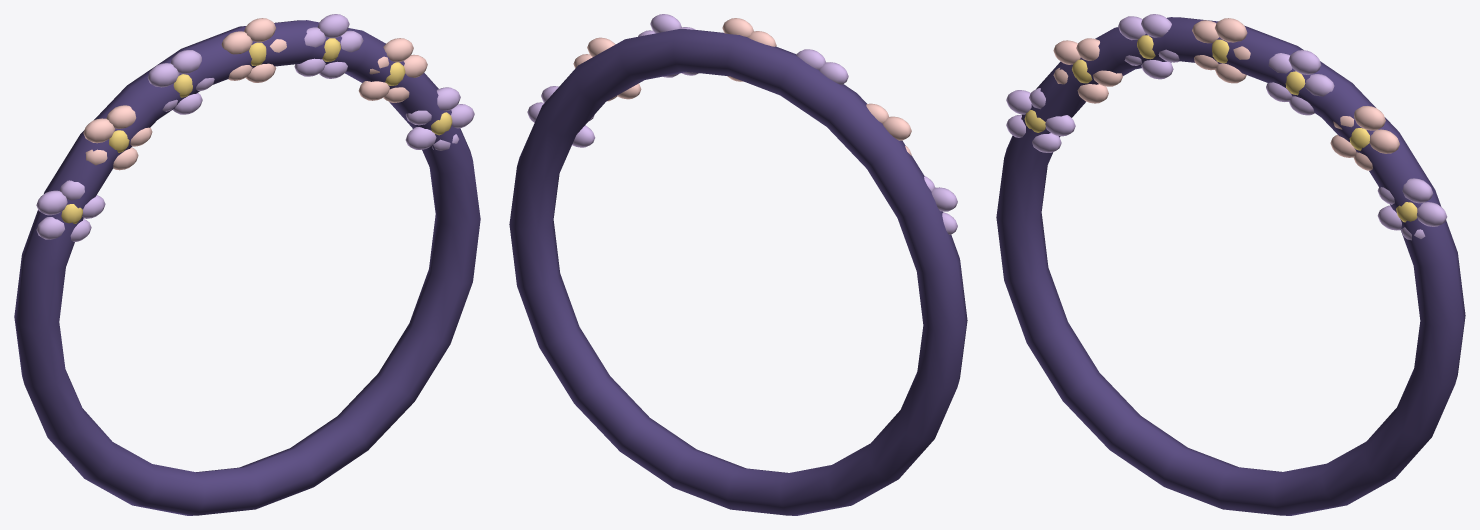
File: fairy_flower_gate.glb
3 renders of one model, left to right at view 1: azimuth 30°, elevation 25°; view 2: azimuth 150°, elevation 25°; view 3: azimuth 330°, elevation 25°, orthographic. The views are drawn at different scales.
Visible parts, largest first — view 1: InkArch, Flower_6_2, Flower_5_2, Flower_4_2, Flower_2_1, Flower_3_1, Flower_4_1, Flower_1_1, Flower_3_2, Flower_0_3, Flower_5_1; view 2: InkArch; view 3: InkArch, Flower_2_1, Flower_3_1, Flower_1_1, Flower_0_1, Flower_0_0, Flower_1_0, Flower_4_1.
Boxes of the visible parts, x1,y1,x2,y2 form: InkArch: (14, 20, 480, 515); Flower_6_2: (36, 190, 67, 215); Flower_5_2: (83, 118, 115, 143); Flower_4_2: (147, 63, 179, 87); Flower_2_1: (317, 14, 349, 38); Flower_3_1: (244, 18, 275, 42); Flower_4_1: (170, 50, 201, 73); Flower_1_1: (383, 38, 413, 62); Flower_3_2: (221, 31, 252, 54); Flower_0_3: (405, 127, 436, 149); Flower_5_1: (106, 105, 136, 128); InkArch: (509, 29, 967, 515); InkArch: (996, 17, 1465, 515); Flower_2_1: (1288, 50, 1321, 74); Flower_3_1: (1215, 18, 1247, 42); Flower_1_1: (1354, 106, 1385, 130); Flower_0_1: (1402, 178, 1433, 203); Flower_0_0: (1417, 202, 1447, 226); Flower_1_0: (1369, 129, 1399, 153); Flower_4_1: (1141, 14, 1171, 37).
Size of the model in its own units: 7.78 by 7.94 by 0.71.
